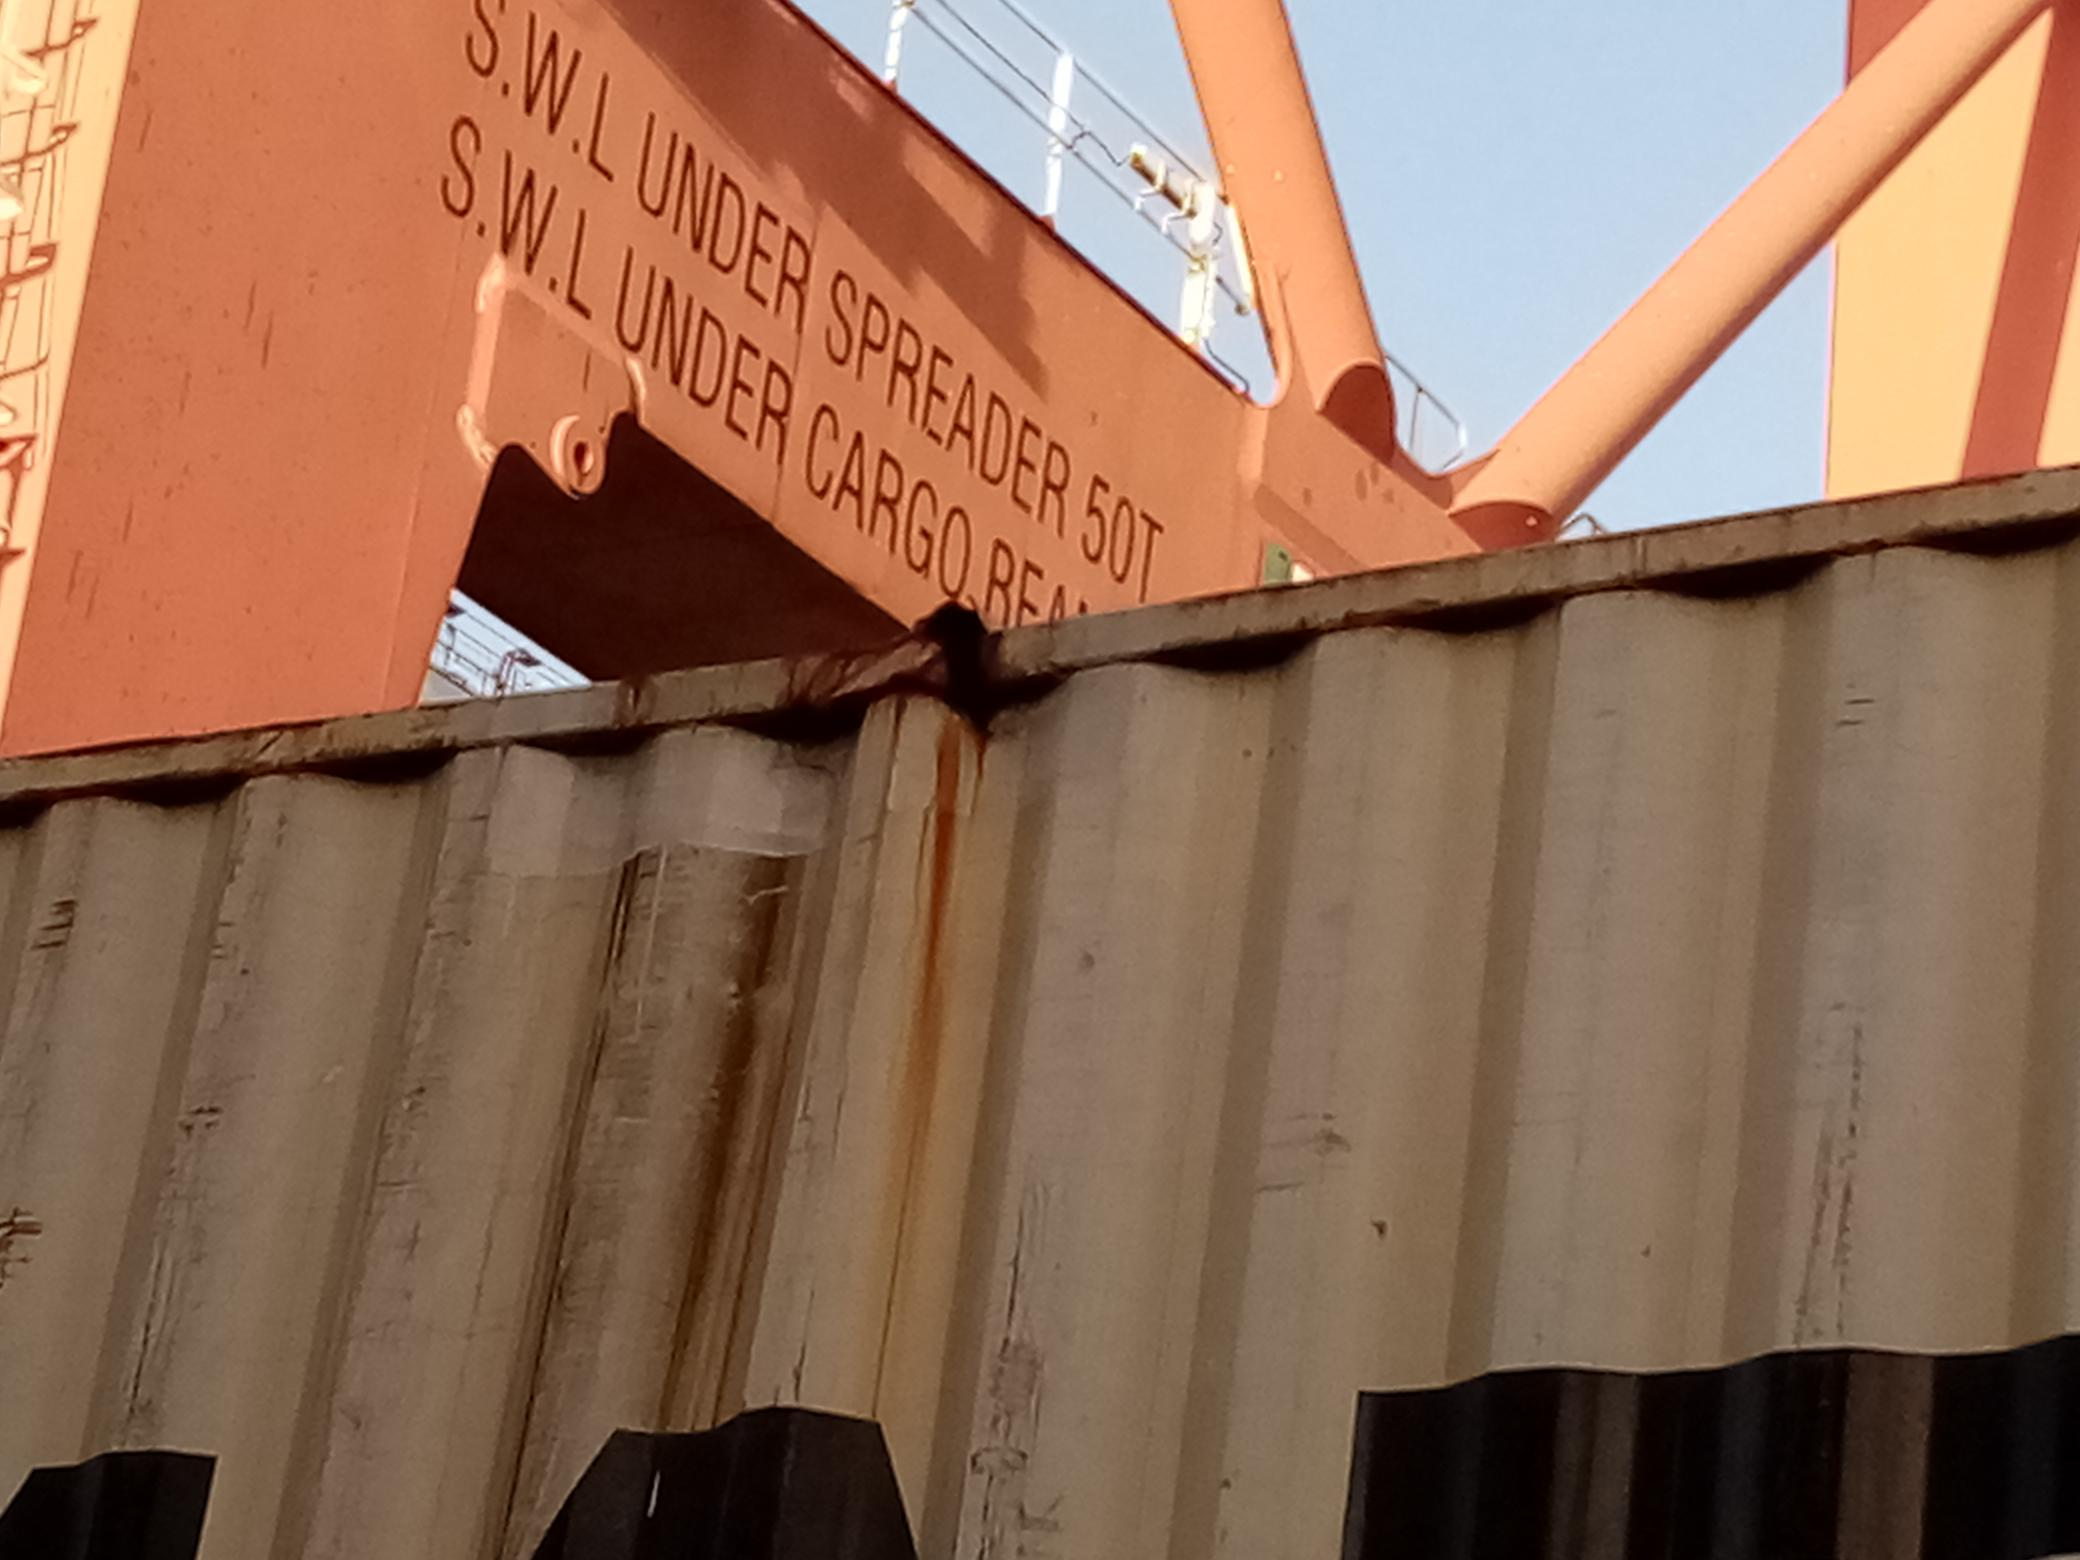cut: (785, 619, 1130, 764)
rust: (573, 809, 902, 1263)
